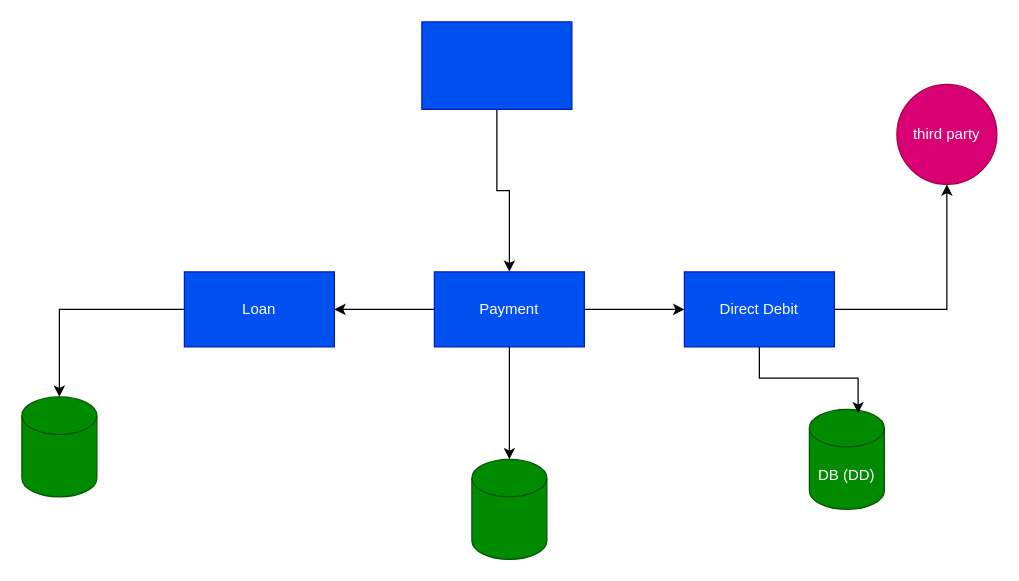
The diagram is 1019 pixels wide and 581 high, and some of its shapes have lost their labels. Each missing label, with the centre of its shape:
"DB (Loan)" goes at (x=59, y=446).
"DB (Payment)" goes at (x=509, y=508).
"Gateway" goes at (x=496, y=65).
